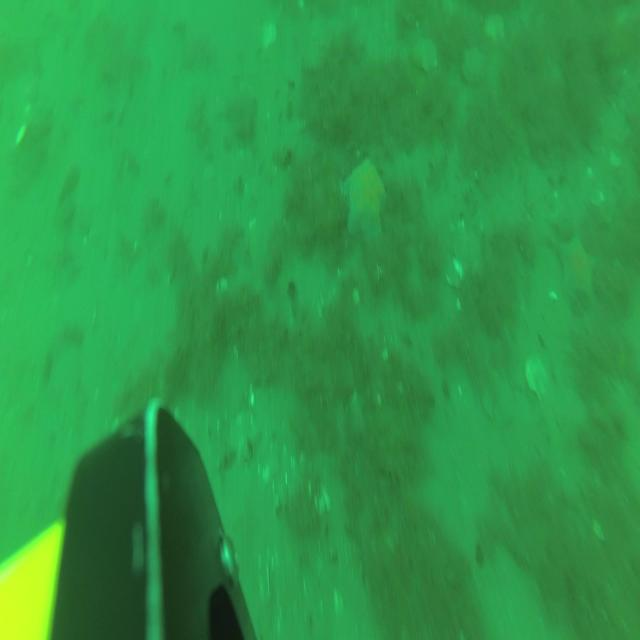scallop: (481, 368, 513, 428), (454, 224, 484, 278), (523, 351, 550, 404), (460, 46, 488, 86), (410, 38, 440, 75), (483, 10, 507, 45), (259, 22, 278, 51)
starfish: (341, 154, 388, 241), (553, 230, 598, 302)
